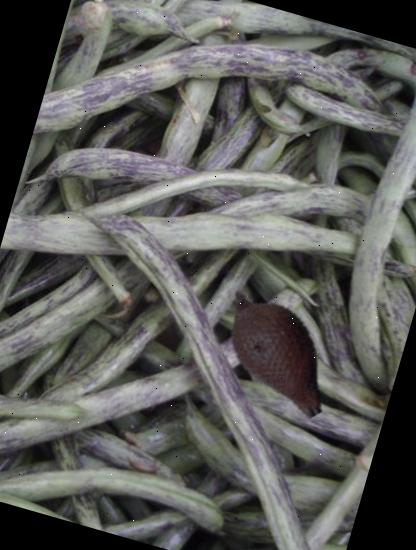Salak: (185, 260, 369, 444)
